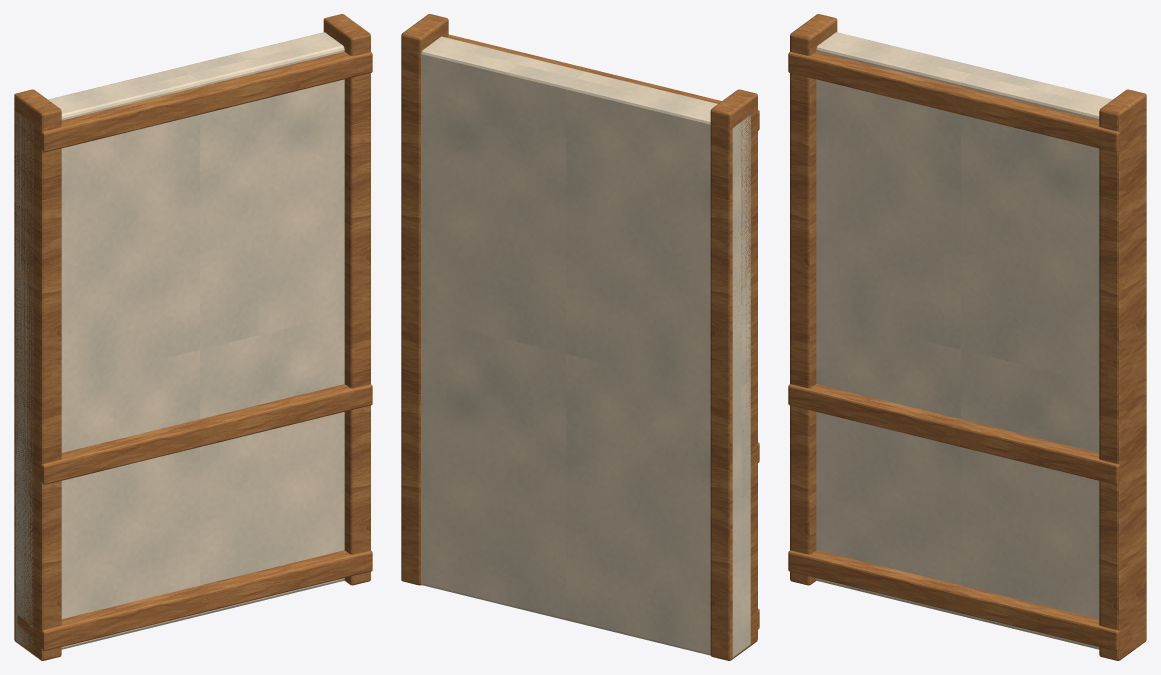
Rendered from WC_CAFE_Wall_Cream_A.glb.
3 views of the same model, side by side, from view 1: azimuth 30°, elevation 25°; view 2: azimuth 150°, elevation 25°; view 3: azimuth 330°, elevation 25° (orthographic).
Visible parts, largest first — view 1: WC_CAFE_Wall_Cream_A_RenderMesh; view 2: WC_CAFE_Wall_Cream_A_RenderMesh; view 3: WC_CAFE_Wall_Cream_A_RenderMesh.
Boxes of the visible parts, x1,y1,x2,y2 form: WC_CAFE_Wall_Cream_A_RenderMesh: [14, 14, 372, 660]; WC_CAFE_Wall_Cream_A_RenderMesh: [401, 14, 759, 660]; WC_CAFE_Wall_Cream_A_RenderMesh: [788, 14, 1146, 660].
Size of the model in its own units: 1.6 by 2.54 by 0.255.
Materials: 3 (3 with a texture image).
